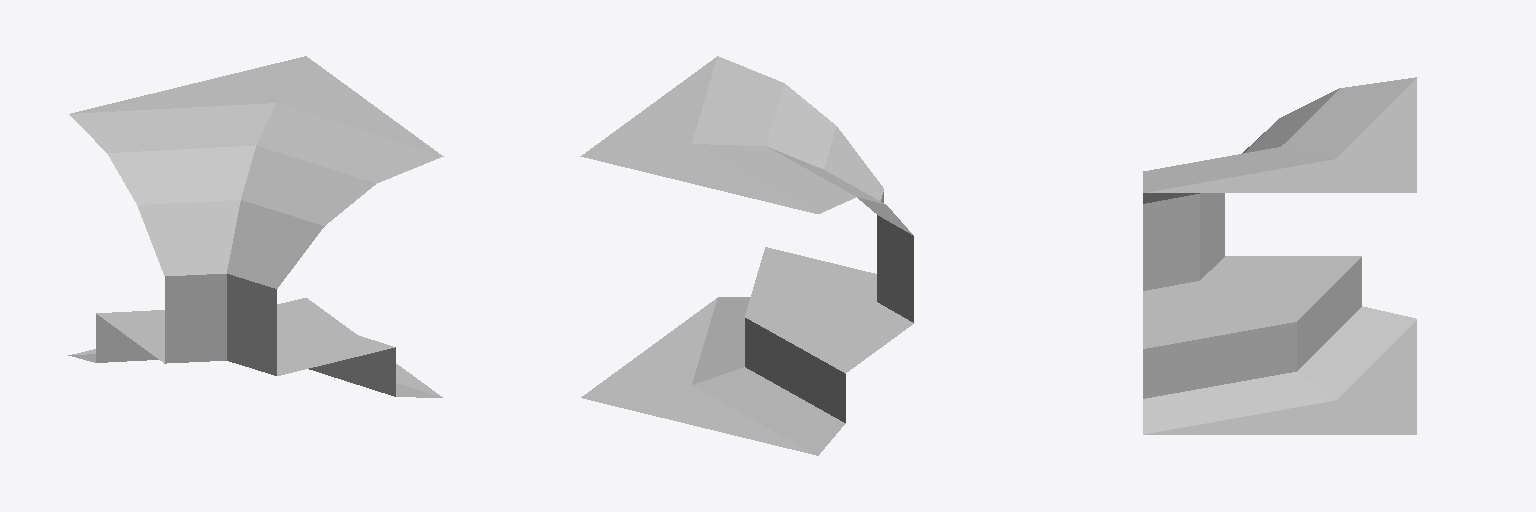
File: worldtile28.obj
3 renders of one model, left to right at view 1: azimuth 30°, elevation 25°; view 2: azimuth 150°, elevation 25°; view 3: azimuth 270°, elevation 25°, orthographic.
Visible parts, largest first — view 1: objobjDuplicate12; view 2: objobjDuplicate12; view 3: objobjDuplicate12.
Boxes of the visible parts, box(x1,y1,x2,y2) form: objobjDuplicate12: box(68, 56, 443, 397); objobjDuplicate12: box(580, 56, 913, 455); objobjDuplicate12: box(1143, 77, 1416, 434).
Bounding box in the file's own units: 10 × 9.7 × 10.